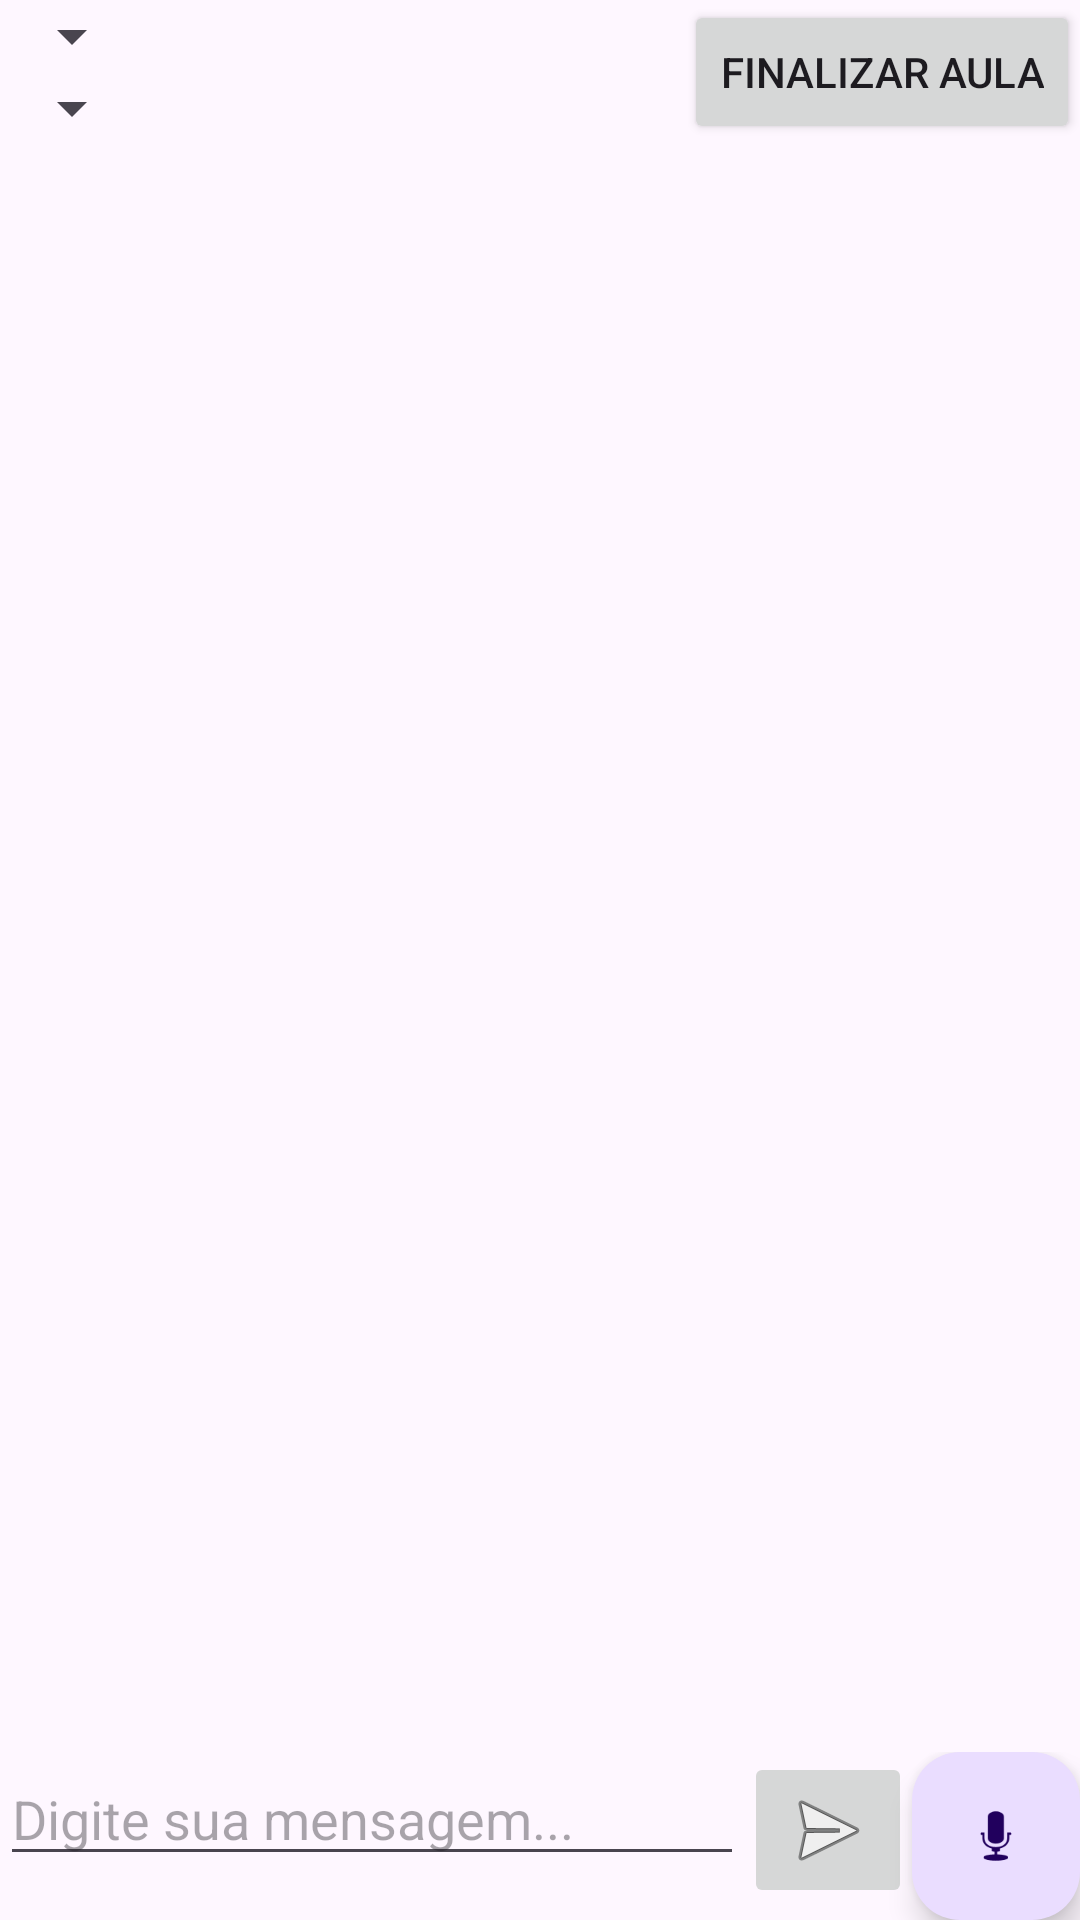

Point at icon controls on the screen. Image size 1080px×1920px, points as (x=x, y=y).
send: (x=828, y=1830)
speak now: (x=996, y=1836)
